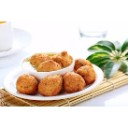bonda: (15, 74, 37, 95), (39, 75, 62, 95), (64, 72, 84, 89), (81, 66, 97, 82)
